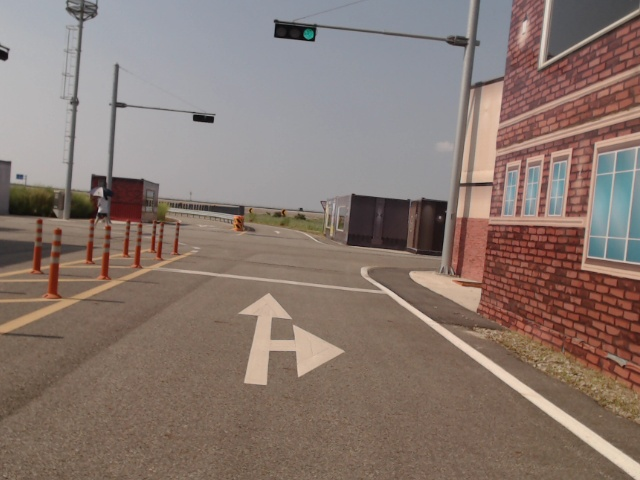green_3: (274, 23, 316, 42)
